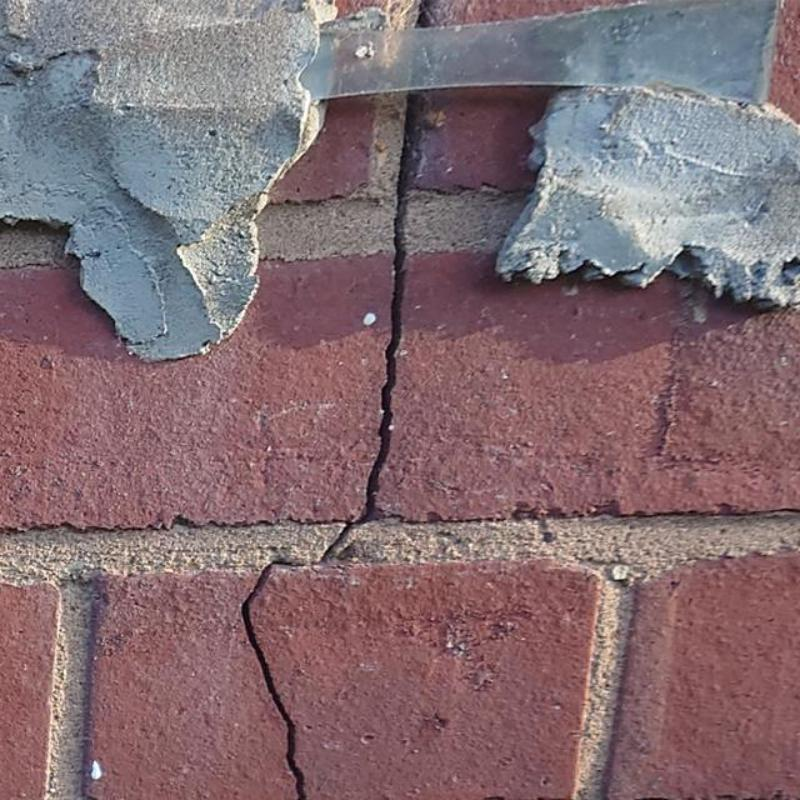crack: (319, 94, 411, 563), (242, 562, 306, 799)
